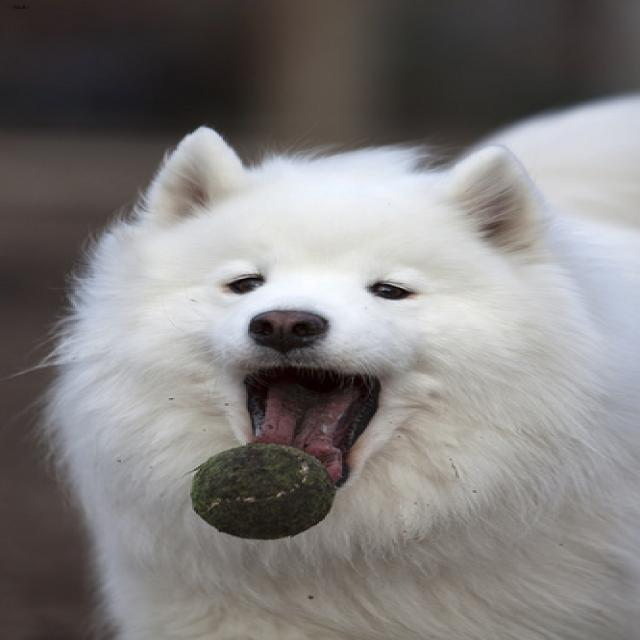dog-samoyed: (31, 86, 636, 637)
